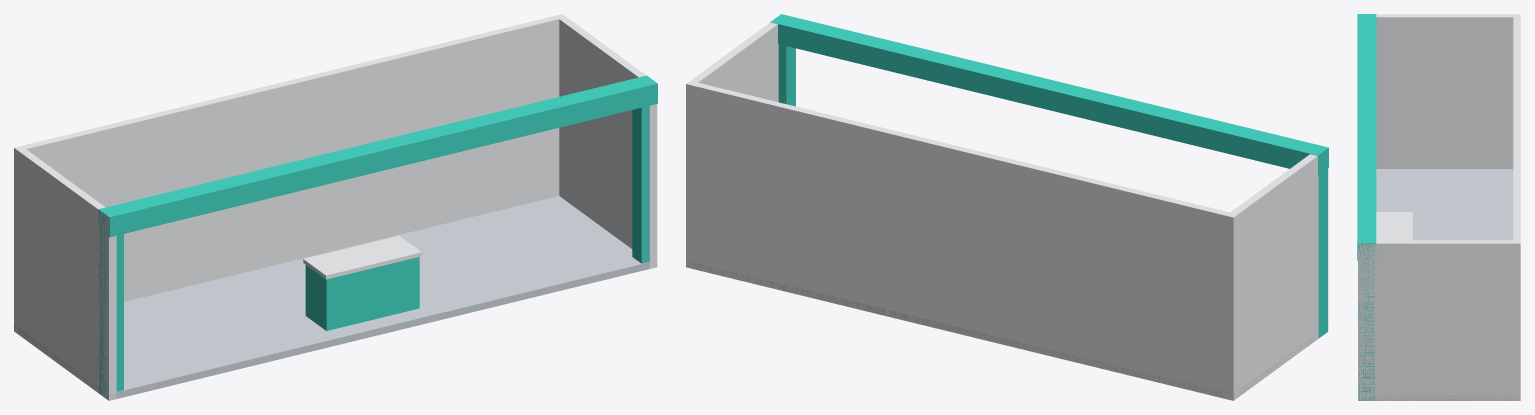
3 views of the same model, side by side, from view 1: azimuth 30°, elevation 25°; view 2: azimuth 150°, elevation 25°; view 3: azimuth 270°, elevation 25° (orthographic). The views are drawn at different scales.
Visible parts, largest first — view 1: Exhibition Booth Concept; view 2: Exhibition Booth Concept; view 3: Exhibition Booth Concept.
Boxes of the visible parts, x1,y1,x2,y2 form: Exhibition Booth Concept: (14,14,657,400); Exhibition Booth Concept: (686,14,1328,400); Exhibition Booth Concept: (1357,14,1520,400).
Size of the model in its own units: 10 by 3.2 by 3.01.
